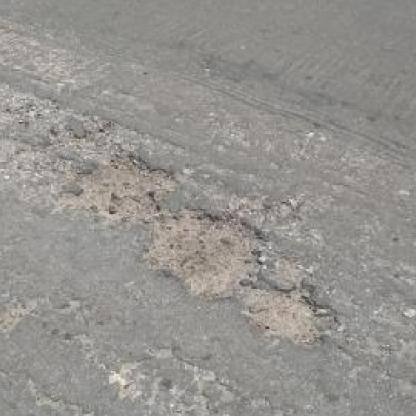pothole: (139, 207, 266, 300), (71, 148, 176, 226), (243, 282, 336, 352)
